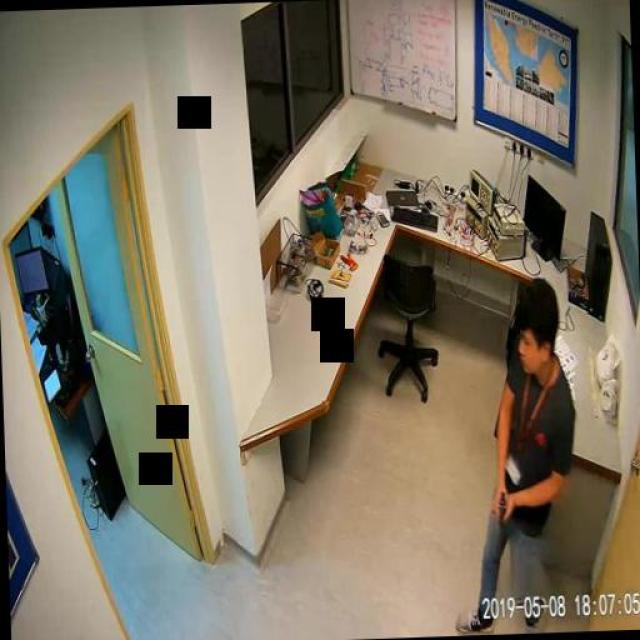gun: (488, 488, 508, 562)
